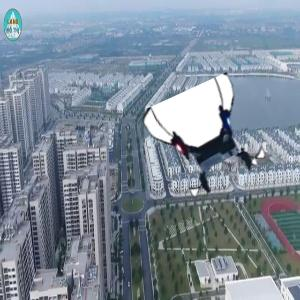drone: (155, 87, 264, 196)
